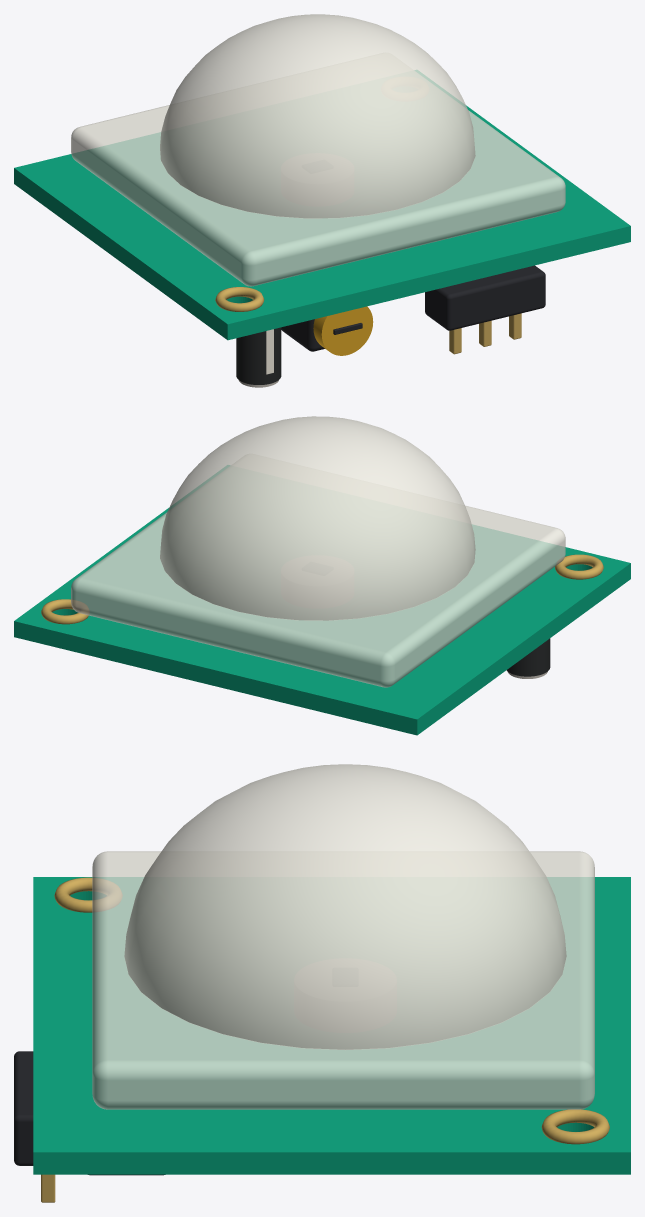
The model's file is sensors-13.glb.
3 views of the same model, one above another, from view 1: azimuth 30°, elevation 25°; view 2: azimuth 150°, elevation 25°; view 3: azimuth 270°, elevation 25° (orthographic). The views are drawn at different scales.
Visible parts, largest first — view 1: lens, pcb, output, delay, capacitor; view 2: lens, pcb, capacitor; view 3: lens, pcb, output.
Part boxes in pixels (x1=…): lens: x1=71, y1=14, x2=565, y2=286; pcb: x1=14, y1=70, x2=630, y2=340; output: x1=425, y1=265, x2=545, y2=354; delay: x1=281, y1=306, x2=373, y2=355; capacitor: x1=236, y1=327, x2=281, y2=387; lens: x1=71, y1=416, x2=565, y2=687; pcb: x1=14, y1=465, x2=630, y2=735; capacitor: x1=506, y1=638, x2=550, y2=678; lens: x1=92, y1=764, x2=594, y2=1109; pcb: x1=33, y1=877, x2=630, y2=1174; output: x1=14, y1=1051, x2=55, y2=1202.
Size of the model in its own units: 1.71 by 1.05 by 1.62.
